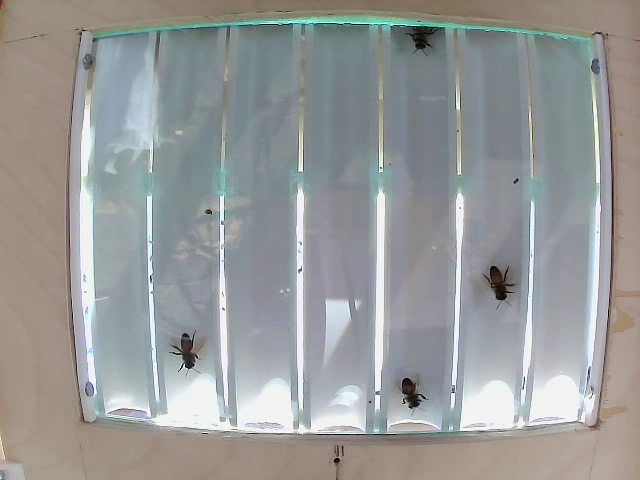bee: (167, 317, 222, 384), (379, 362, 439, 421), (397, 16, 447, 69), (483, 260, 516, 320)
